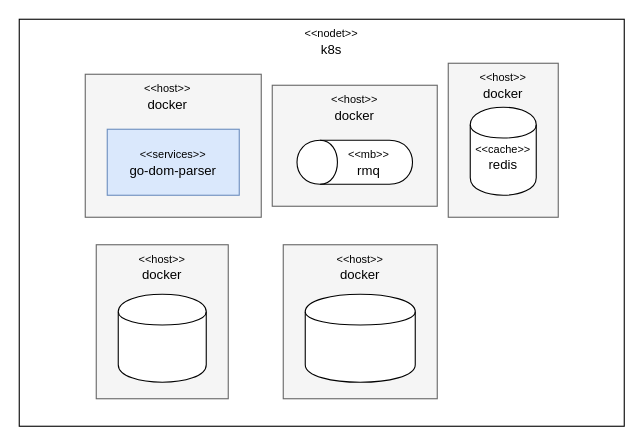
Image size: 644x446. Some labels were removed from this diagram. The shapes that lost their labels are listed below. From the top down, each one's box as (x1, y1, x2, y2) in pixels, then its label:
(117, 293, 206, 382): <<rdbms>> mysql
(304, 293, 415, 382): <<es>> event-store
